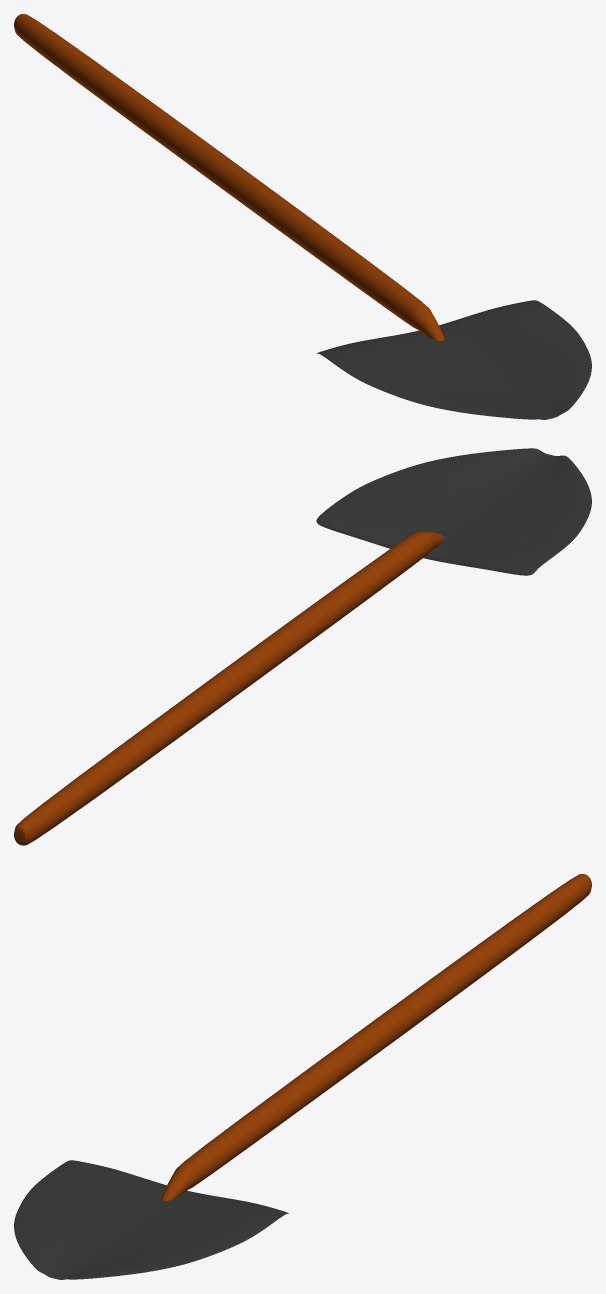
The model's file is Shovel_3D_Model.fbx.
3 views of the same model, one above another, from view 1: azimuth 30°, elevation 25°; view 2: azimuth 150°, elevation 25°; view 3: azimuth 330°, elevation 25° (orthographic).
Visible parts, largest first — view 1: pCylinder3; view 2: pCylinder3; view 3: pCylinder3.
Part boxes in pixels (x1,y1,x2,y2): pCylinder3: (14, 14, 591, 419); pCylinder3: (14, 448, 591, 845); pCylinder3: (14, 874, 591, 1279).
Size of the model in its own units: 0.9935 by 0.1207 by 4.18.
